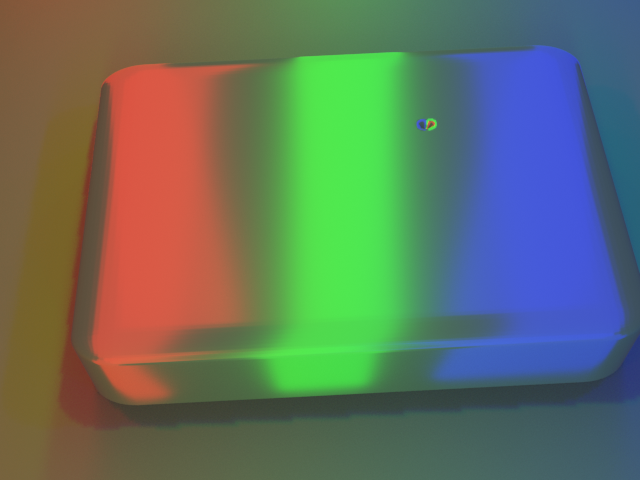dent: (416, 95, 458, 134)
